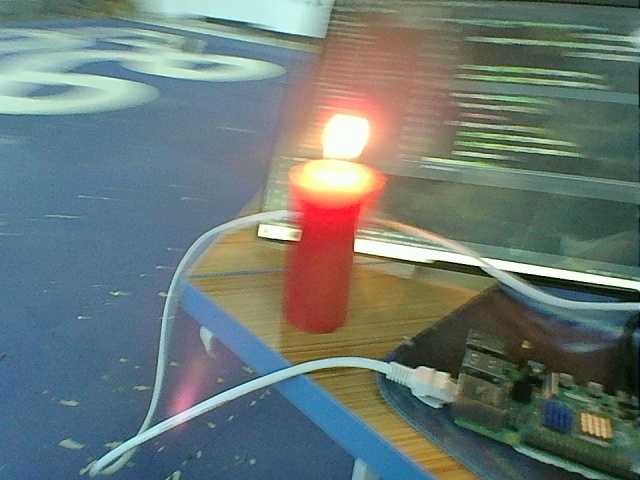candle: (285, 161, 365, 331)
fire: (309, 109, 374, 164)
